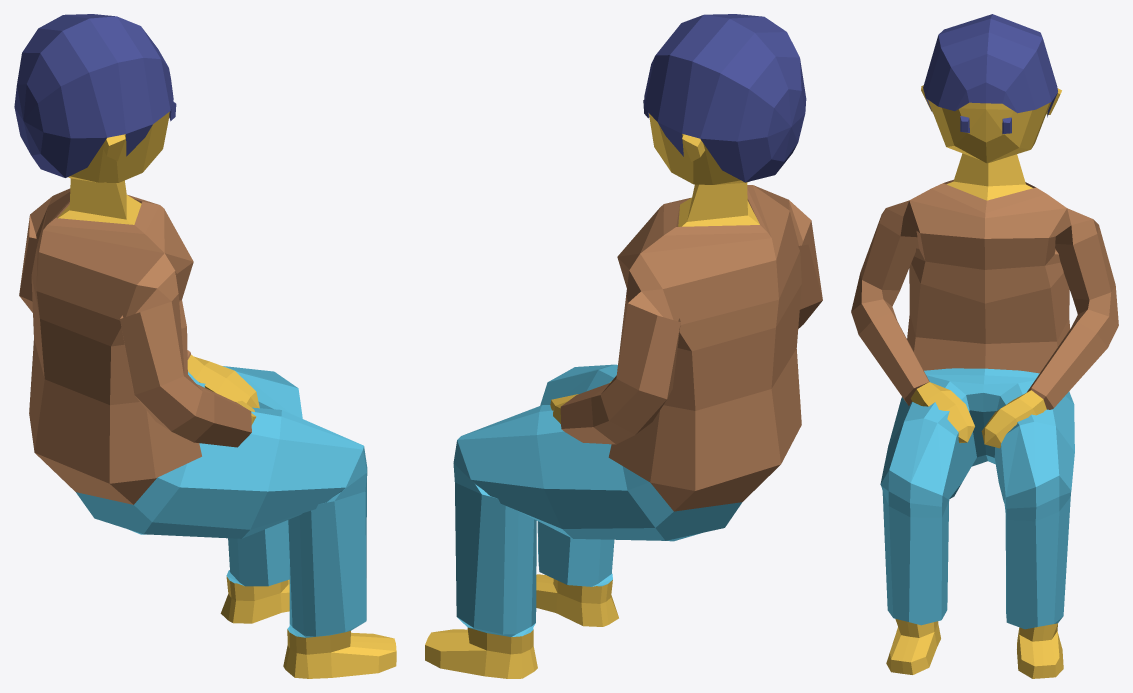
Rendered from 089_聞き手(Man)001.glb.
3 views of the same model, side by side, from view 1: azimuth 30°, elevation 25°; view 2: azimuth 150°, elevation 25°; view 3: azimuth 270°, elevation 25° (orthographic). The views are drawn at different scales.
Visible parts, largest first — view 1: 立方体051_3, 立方体051_2, 立方体051, 立方体051_1; view 2: 立方体051_3, 立方体051_2, 立方体051, 立方体051_1; view 3: 立方体051_3, 立方体051_2, 立方体051_1, 立方体051.
Part boxes in pixels (x1,y1,x2,y2): 立方体051_3: (19,188,251,504); 立方体051_2: (76,366,367,637); 立方体051: (14,14,176,177); 立方体051_1: (57,112,396,678); 立方体051_3: (560,185,822,511); 立方体051_2: (453,364,742,636); 立方体051: (643,14,806,182); 立方体051_1: (425,113,759,678); 立方体051_3: (851,179,1118,409); 立方体051_2: (880,368,1074,629); 立方体051_1: (886,85,1063,678); 立方体051: (923,14,1057,134).
Bounding box in the file's own units: 0.8573 × 1.65 × 0.7236.
